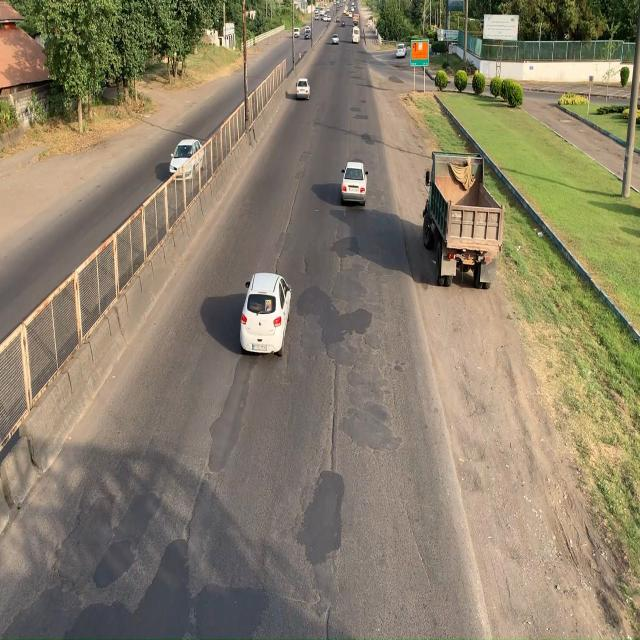Truck: (424, 156, 508, 298)
cars: (235, 273, 293, 359), (165, 140, 207, 183), (339, 161, 368, 206)
